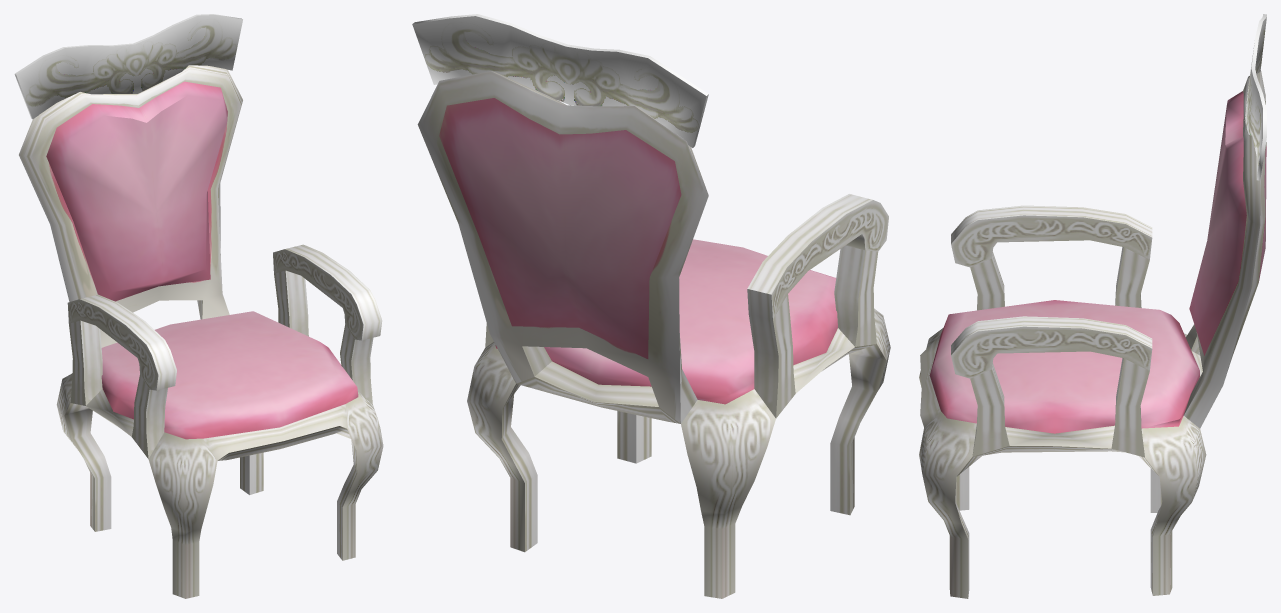
The model's file is RococoChair_HD.fbx.
3 renders of one model, left to right at view 1: azimuth 30°, elevation 25°; view 2: azimuth 150°, elevation 25°; view 3: azimuth 270°, elevation 25°, orthographic. The views are drawn at different scales.
Visible parts, largest first — view 1: RococoChair; view 2: RococoChair; view 3: RococoChair.
Part boxes in pixels (bbox=[...]): RococoChair: bbox=[14, 14, 383, 598]; RococoChair: bbox=[412, 14, 890, 598]; RococoChair: bbox=[919, 14, 1266, 598].
Size of the model in its own units: 0.5376 by 1.01 by 0.6428.
